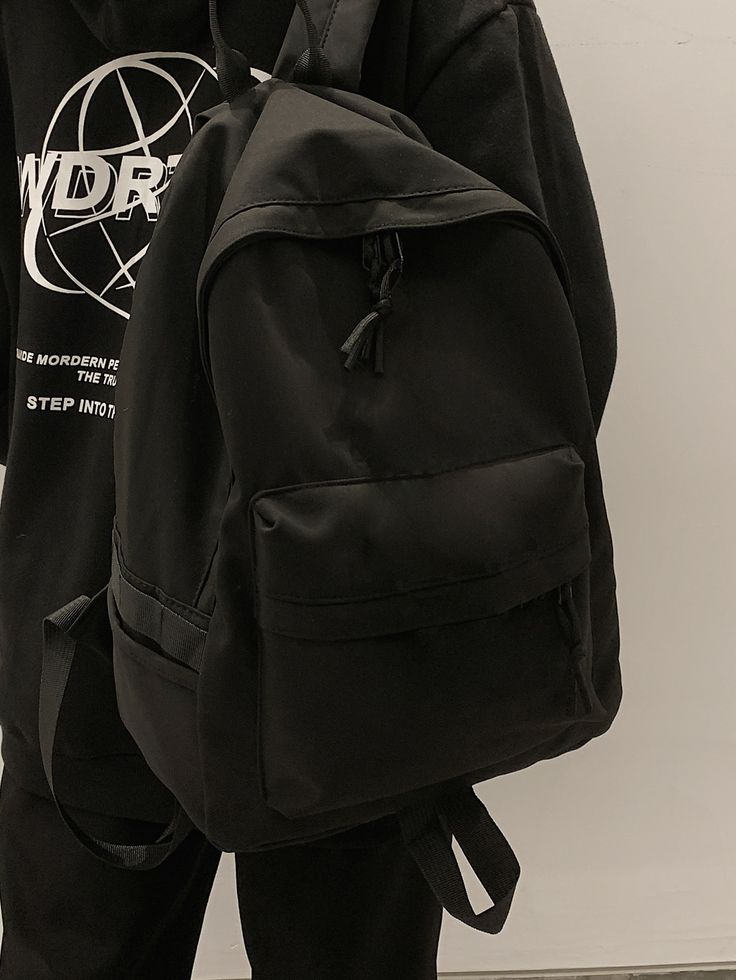nylon: (41, 10, 624, 934)
